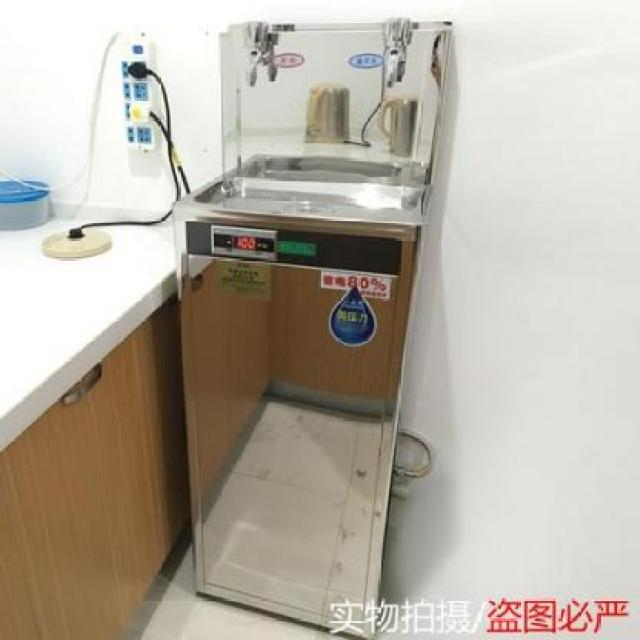cooler: (175, 11, 452, 640)
